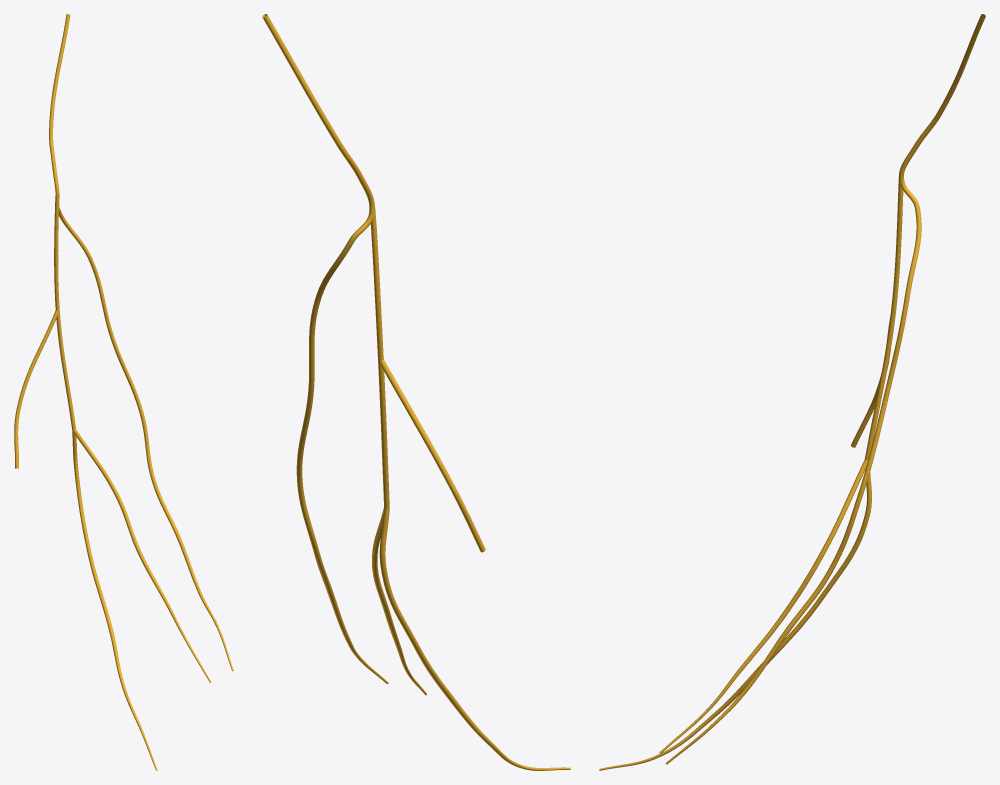
The model's file is nervoso-superficial-branch-of-ulnar-nerve-r.glb.
3 views of the same model, side by side, from view 1: azimuth 30°, elevation 25°; view 2: azimuth 150°, elevation 25°; view 3: azimuth 270°, elevation 25° (orthographic). The views are drawn at different scales.
Visible parts, largest first — view 1: Proper palmar digital branches of ulnar nerve.r, Common palmar digital branches of ulnar nerve.r, Superficial branch of ulnar nerve.r; view 2: Proper palmar digital branches of ulnar nerve.r, Common palmar digital branches of ulnar nerve.r, Superficial branch of ulnar nerve.r; view 3: Proper palmar digital branches of ulnar nerve.r, Common palmar digital branches of ulnar nerve.r, Superficial branch of ulnar nerve.r.
Part boxes in pixels (x1,y1,x2,y2): Proper palmar digital branches of ulnar nerve.r: (55, 196, 233, 770); Common palmar digital branches of ulnar nerve.r: (14, 196, 75, 468); Superficial branch of ulnar nerve.r: (49, 14, 70, 196); Proper palmar digital branches of ulnar nerve.r: (296, 205, 570, 770); Common palmar digital branches of ulnar nerve.r: (369, 205, 485, 552); Superficial branch of ulnar nerve.r: (262, 14, 374, 206); Proper palmar digital branches of ulnar nerve.r: (599, 176, 921, 770); Common palmar digital branches of ulnar nerve.r: (851, 175, 903, 460); Superficial branch of ulnar nerve.r: (899, 14, 985, 175).
Bounding box in the file's own units: 0.0416 × 0.1706 × 0.0752.
